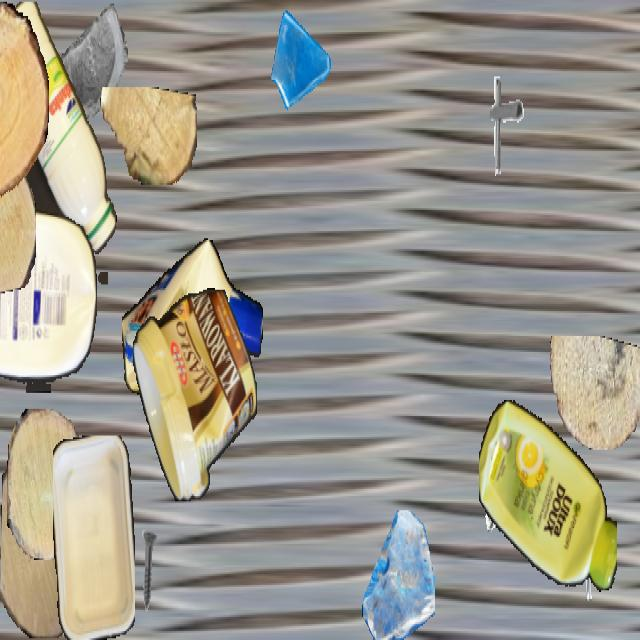glass: (362, 510, 434, 638), (56, 2, 128, 130), (269, 1, 333, 116)
metal: (472, 71, 532, 178), (66, 439, 126, 546), (124, 528, 172, 613), (479, 453, 525, 535), (571, 535, 615, 613), (629, 4, 640, 78)
plastic: (0, 1, 118, 282), (479, 393, 617, 599), (132, 288, 256, 501), (122, 237, 262, 407), (0, 210, 96, 394), (53, 436, 135, 638)
wood: (1, 439, 89, 638), (7, 409, 87, 558), (547, 336, 640, 450), (0, 2, 48, 201), (99, 87, 197, 183), (0, 150, 36, 292)
